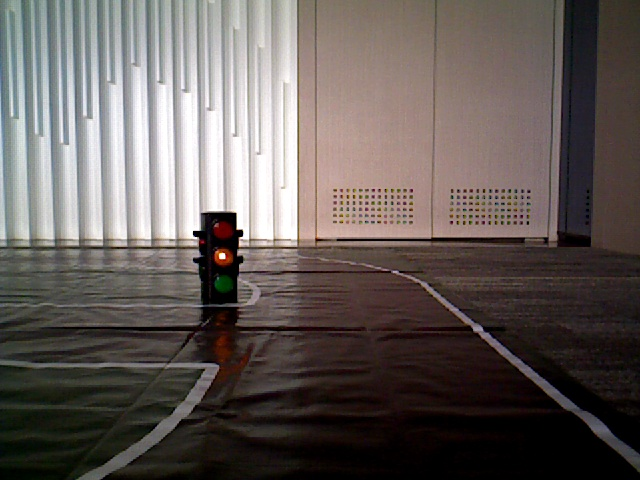yellow: (204, 215, 234, 294)
